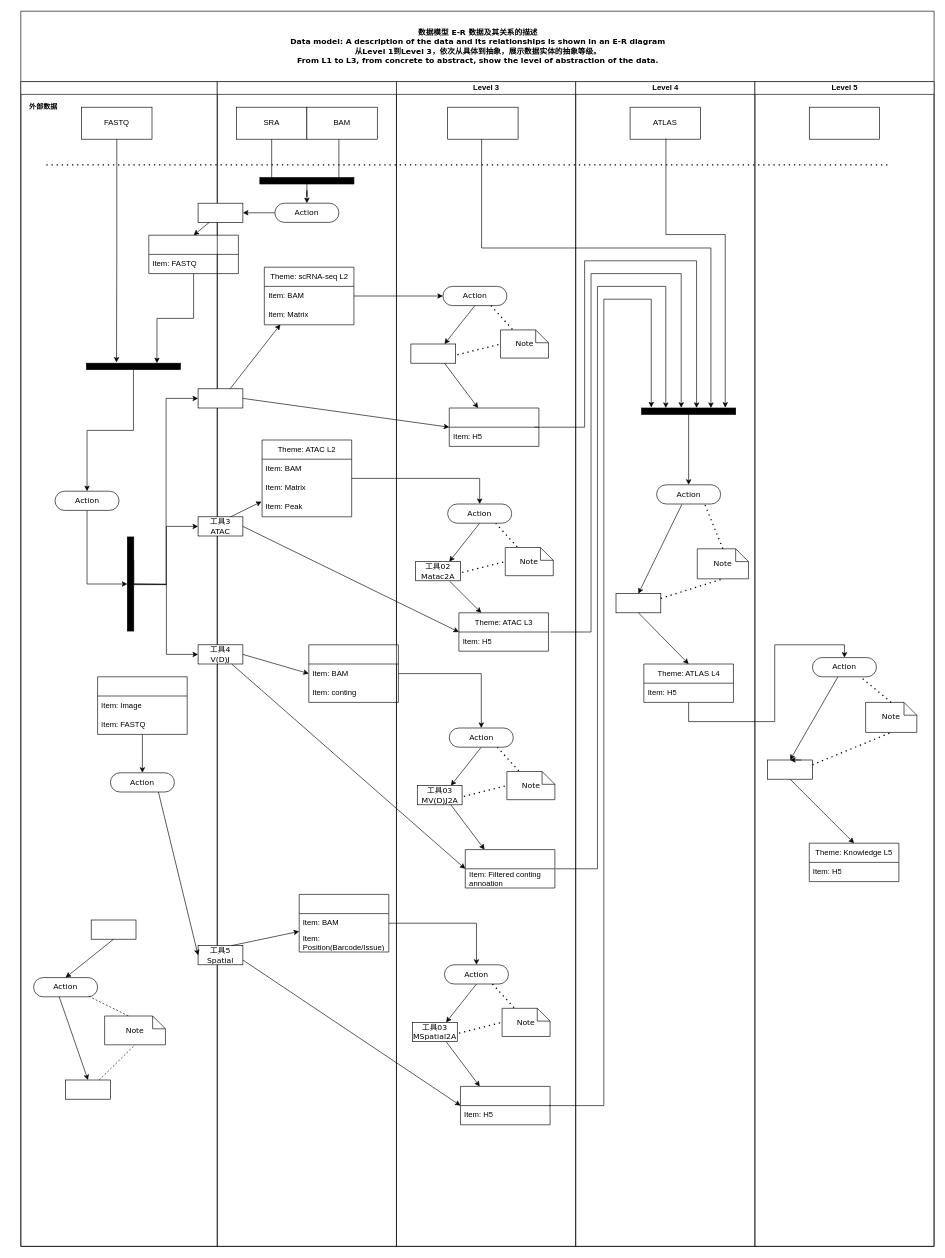
Some shapes in this 945 by 1258 pixel diagram are drawn without their labels. The box of each missing label's shape, as (x1, y1, x2, y2) in pixels:
H5AD: matrix with annoation: (447, 107, 518, 139)
Knowlodeg/ Publication: (809, 107, 880, 139)
Level 1: (20, 81, 217, 1246)
Level 2: (217, 81, 396, 1246)
Reference: (65, 1079, 110, 1099)
Theme: scRNA-seq L3: (449, 407, 539, 446)
Theme: Spatial L1: (97, 676, 187, 734)
Theme: Spatial L2: (299, 894, 389, 952)
Theme: Spatial L3: (460, 1086, 550, 1125)
Theme: V(D)J L2: (308, 644, 398, 702)
Theme: V(D)J L3: (465, 849, 555, 888)
Theme: 数据复用 L1: (148, 235, 238, 274)
工具00 MakeRef: (91, 919, 136, 939)
工具01 M2A: (410, 343, 456, 363)
工具1: (197, 203, 243, 222)
工具2 scRNA-seq: (197, 388, 243, 408)
工具90 Integration: (615, 593, 661, 613)
工具91 Analysis: (767, 759, 812, 779)
